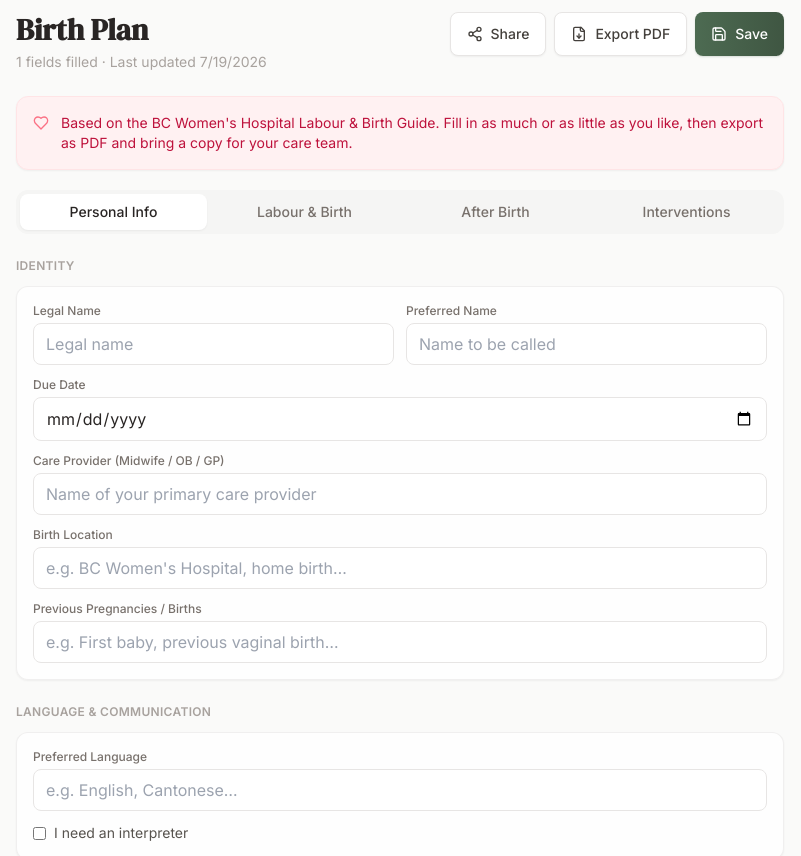
it: BirthPlanPage › switches tabs when tab buttons are clicked
// Click Labour & Birth tab (use getByRole to target the button specifically)
Click the button "Labour & Birth".
click(304, 212)  # box top-left (211, 194), bottom-right (398, 230)
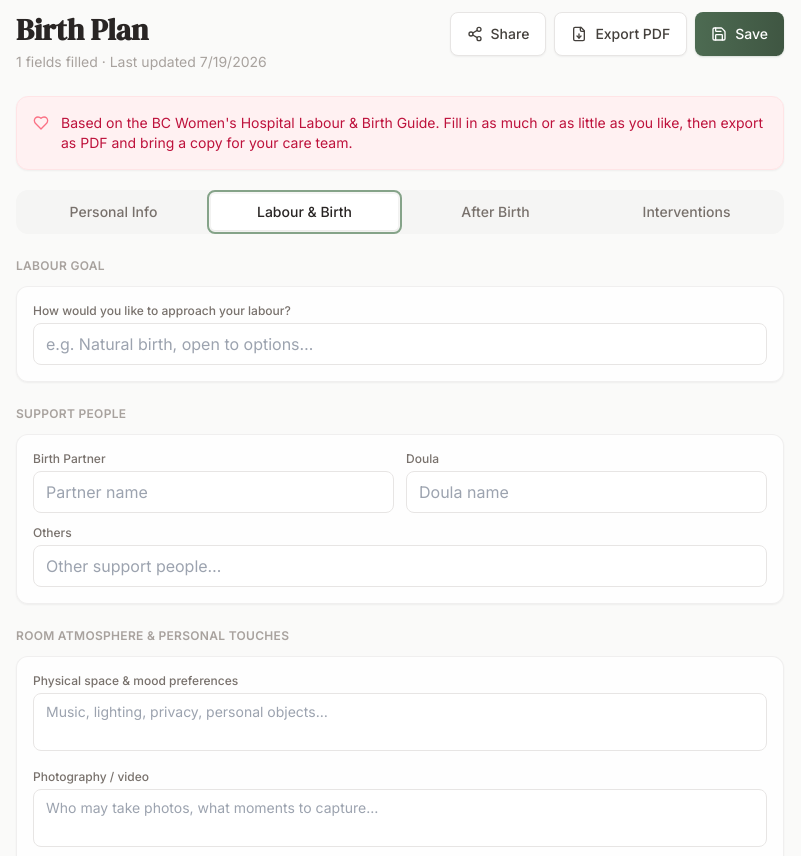
Expected: the heading "Labour Goal" is shown, top-left (16, 258), bottom-right (105, 273)
// Click After Birth tab
Click the button "After Birth".
click(496, 212)  # box top-left (402, 194), bottom-right (589, 230)
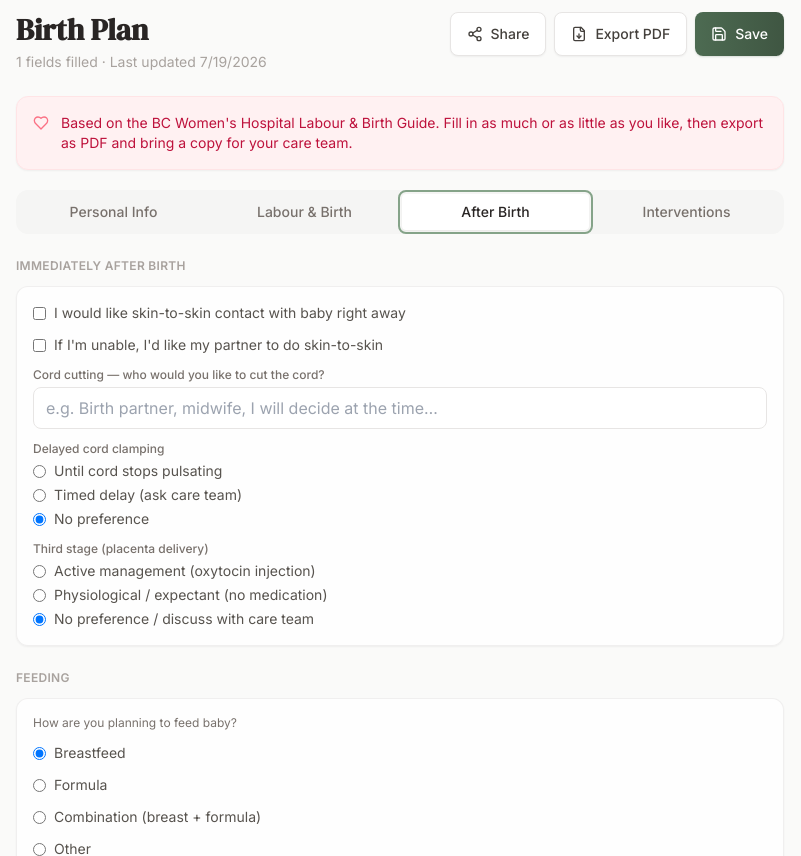
Expected: the heading "Immediately After Birth" is shown, top-left (16, 258), bottom-right (186, 273)
// Click Interventions tab
Click the button "Interventions".
click(686, 212)  # box top-left (593, 194), bottom-right (780, 230)
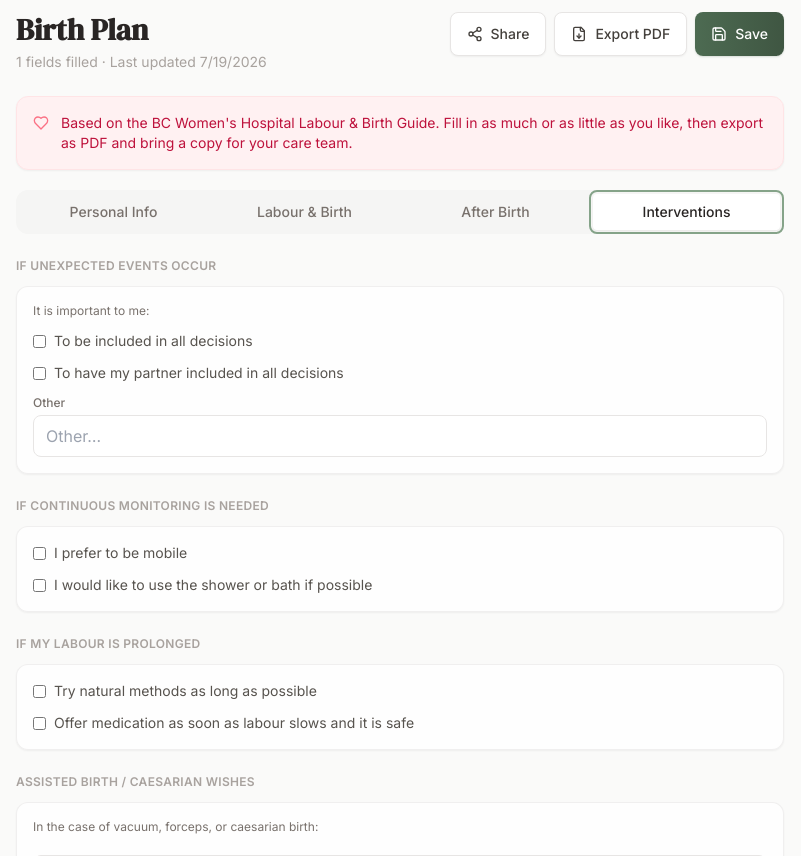
Expected: the heading "If Unexpected Events Occur" is shown, top-left (16, 258), bottom-right (216, 273)
